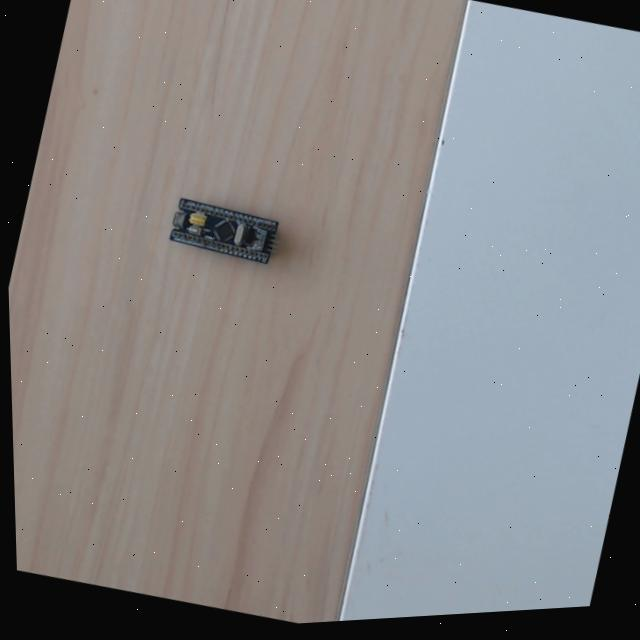STM32-Bluepill: (164, 194, 278, 267)
